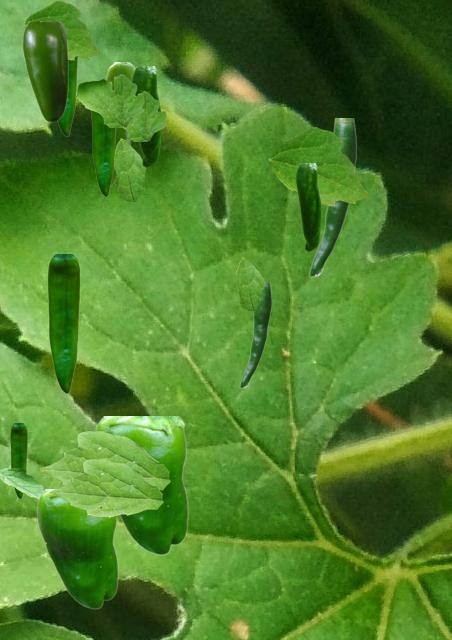green_chili: (95, 416, 187, 554), (36, 489, 117, 608), (308, 118, 355, 276), (47, 254, 79, 392), (23, 21, 67, 121), (106, 62, 135, 186), (239, 281, 270, 387), (132, 66, 159, 166), (91, 111, 115, 195), (296, 163, 319, 250), (57, 57, 77, 135), (10, 423, 26, 497)
